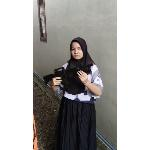Senapan: (40, 60, 98, 92)
